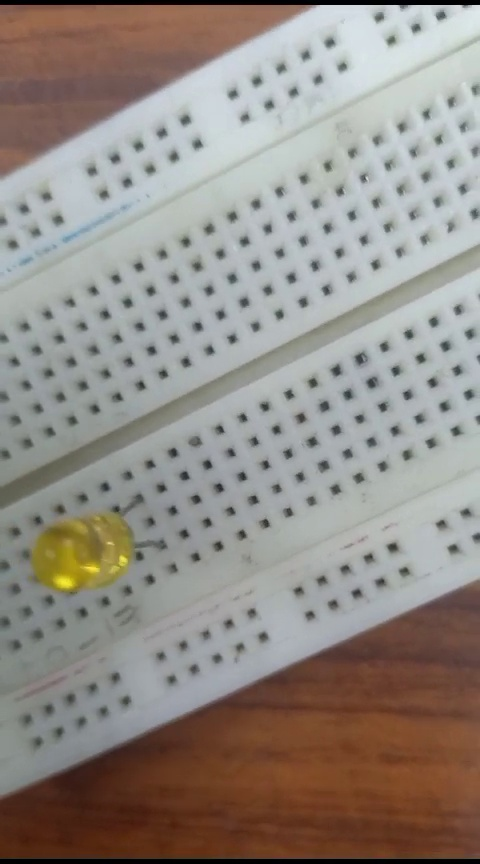LED: (27, 507, 162, 599)
